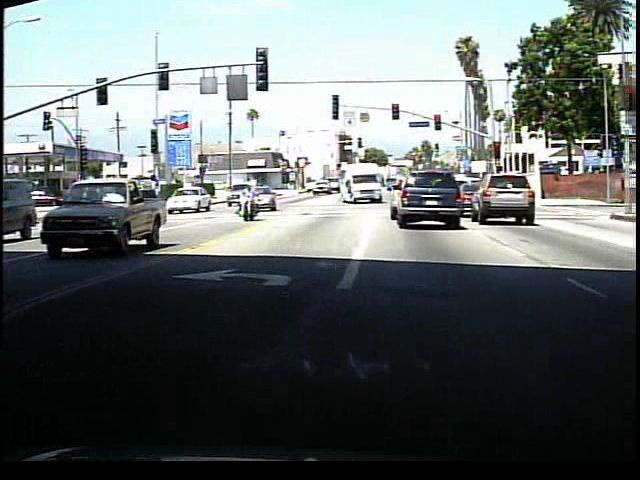person: (237, 182, 260, 223)
